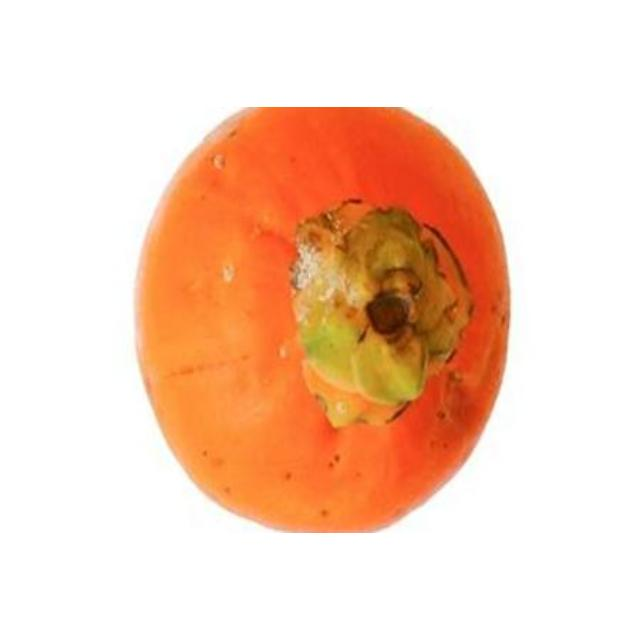good: (134, 108, 508, 530)
